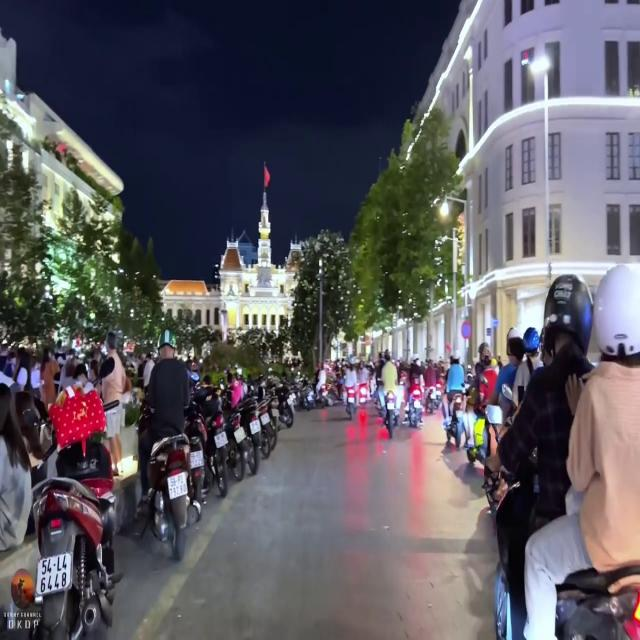bien_trang: (36, 548, 72, 598)
